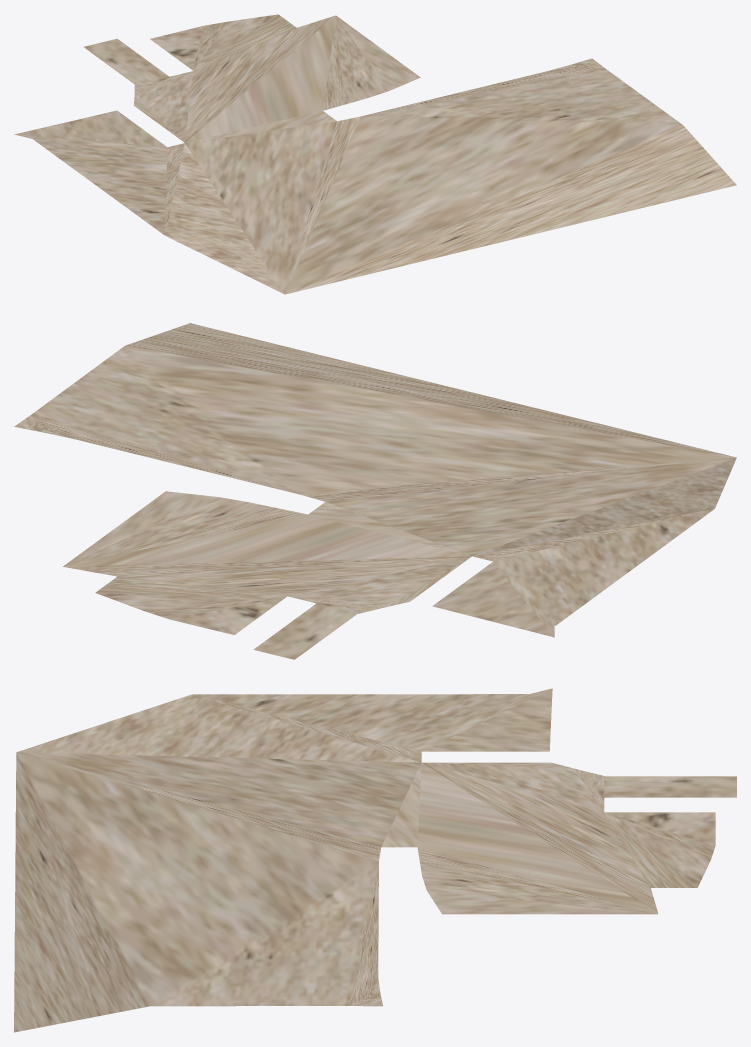
File: lodseabed027bb.obj
3 renders of one model, top to bottom at view 1: azimuth 30°, elevation 25°; view 2: azimuth 150°, elevation 25°; view 3: azimuth 270°, elevation 25°, orthographic. The views are drawn at different scales.
Visible parts, largest first — view 1: lodseabed027bb; view 2: lodseabed027bb; view 3: lodseabed027bb.
Part boxes in pixels (box(x1,y1,x2,y2)): lodseabed027bb: box(14, 14, 736, 294); lodseabed027bb: box(14, 323, 736, 659); lodseabed027bb: box(14, 688, 736, 1032).
Size of the model in its own units: 269 by 10.41 by 259.
